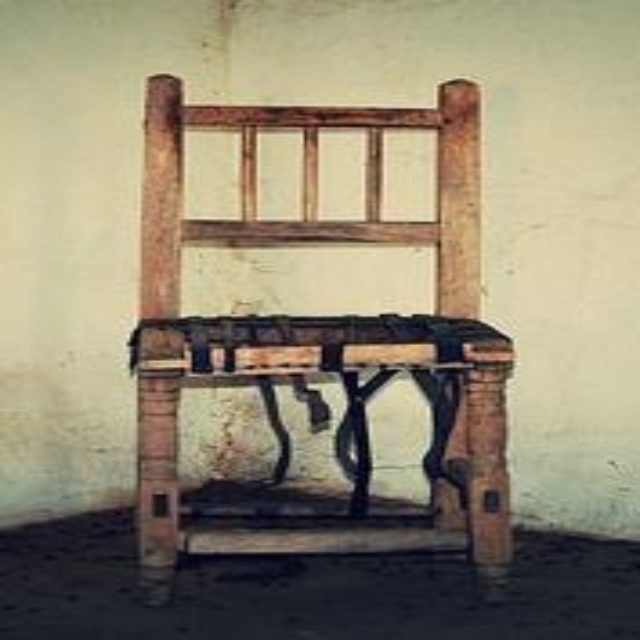obstacle: (134, 74, 510, 582)
